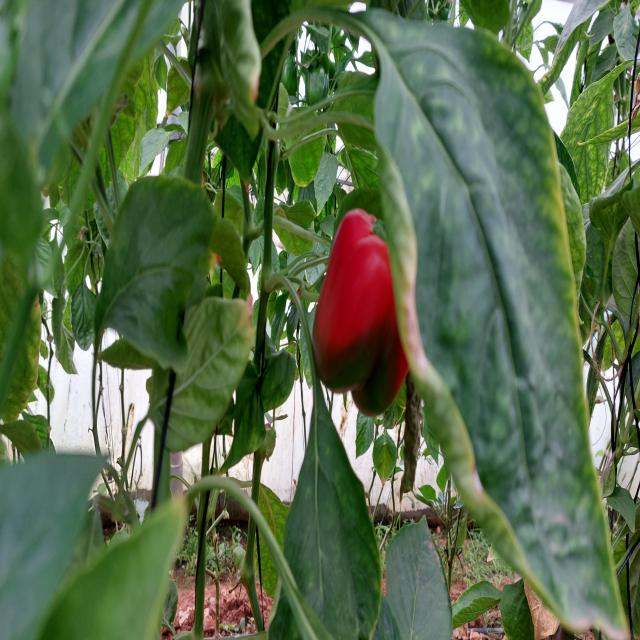Red-Ready-to-Harvest: (320, 214, 428, 425)
